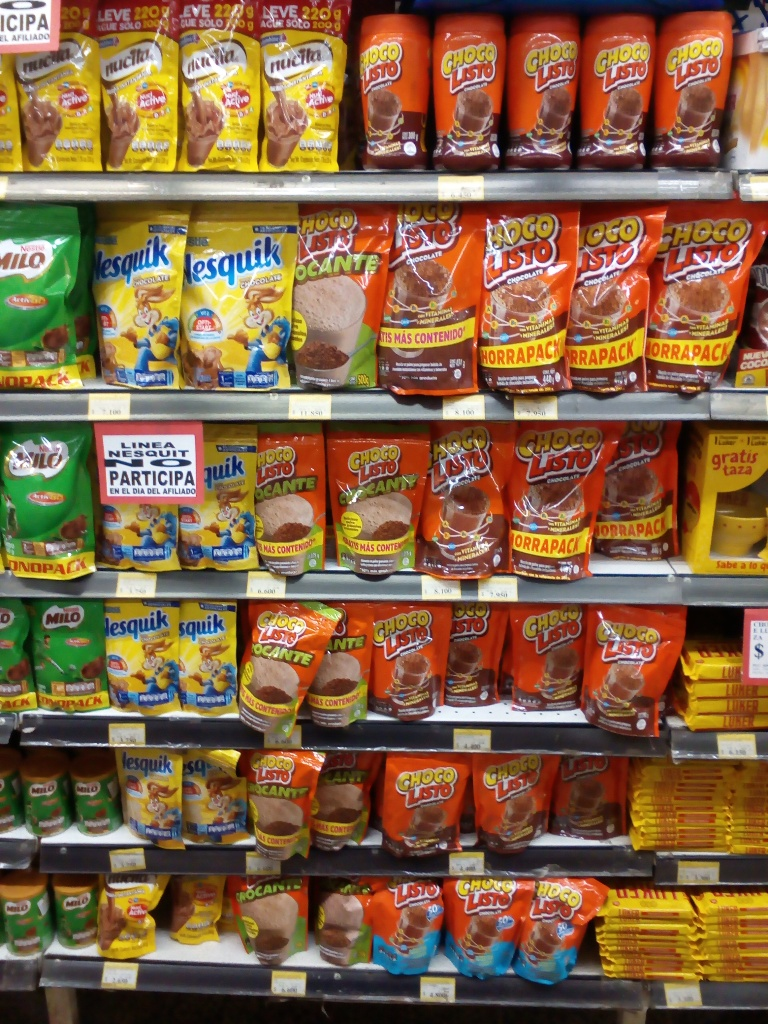COL0170102DYP50000: (295, 200, 400, 399)
COL0170103DYP44000: (649, 197, 761, 399)
COL0170104DYP20000: (515, 873, 607, 987)
COL0170203DYP50000: (2, 425, 99, 574)
COL0170203LAT40000: (47, 874, 98, 953)
COL0170303DYP20000: (182, 419, 263, 574)
COL0170306DYP20000: (112, 745, 183, 848)
